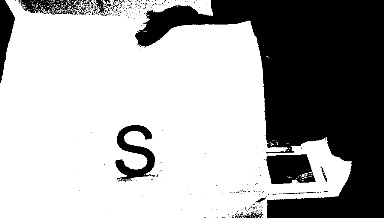S: (110, 120, 156, 181)
